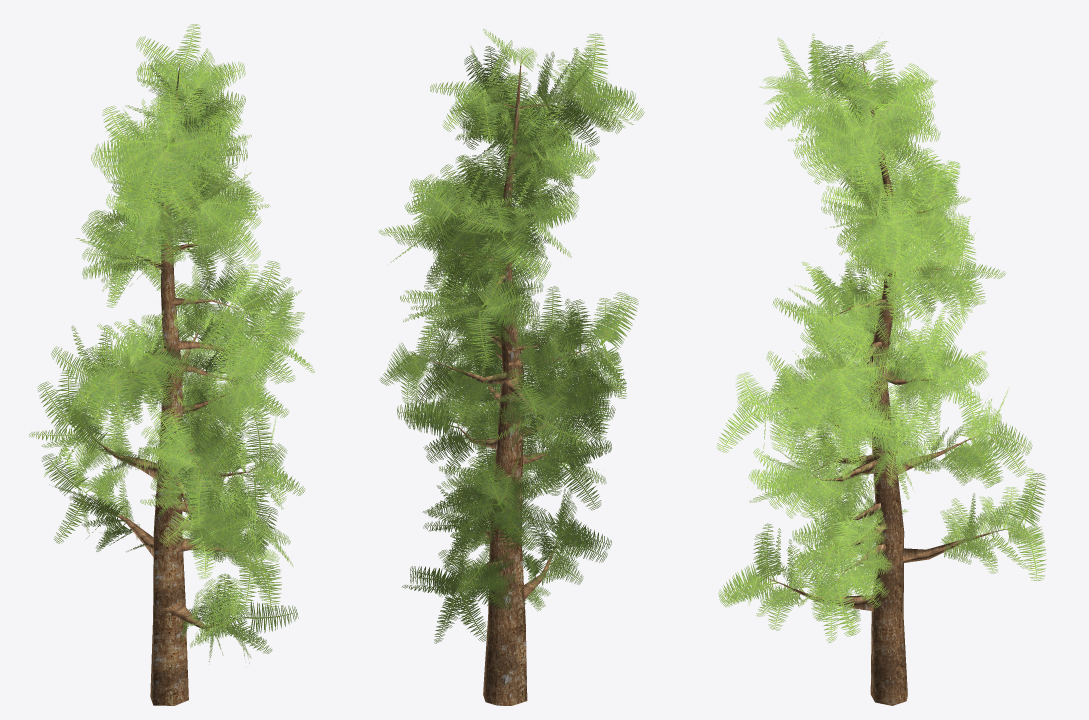
File: brownTree.obj
The picture shows the model from 3 angles, left to right: view 1: azimuth 30°, elevation 25°; view 2: azimuth 150°, elevation 25°; view 3: azimuth 270°, elevation 25°; orthographic projection.
Parts seen in each view (by area): view 1: trunk; view 2: trunk; view 3: trunk.
Boxes of the visible parts, left/top/right/bottom form: trunk: left=29, top=24, right=314, bottom=705; trunk: left=379, top=28, right=644, bottom=705; trunk: left=716, top=33, right=1046, bottom=705.
Size of the model in its own units: 7.58 by 18.97 by 9.63.
